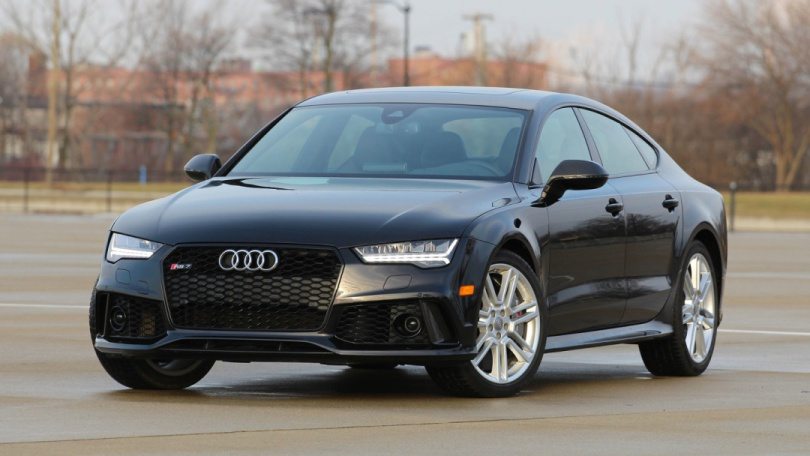audi: (214, 247, 288, 274)
